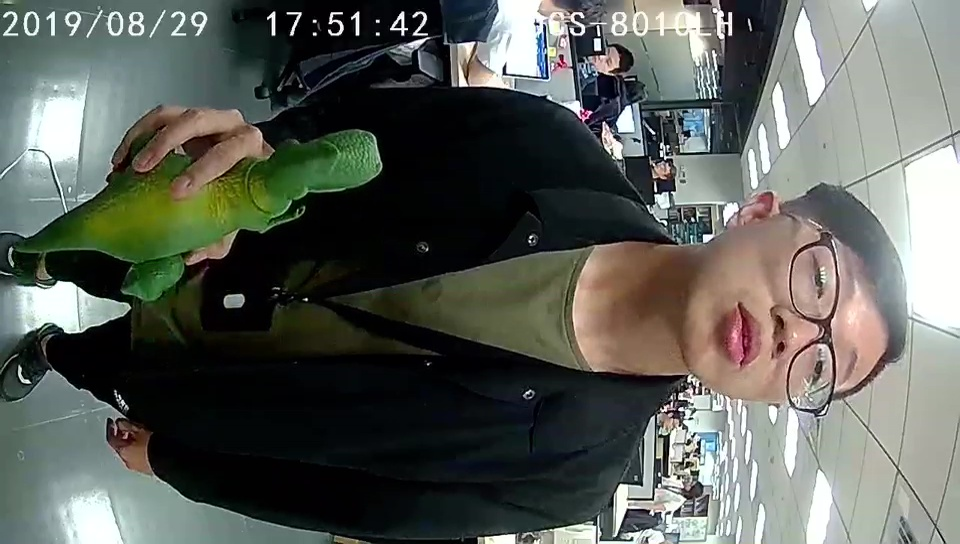rex: (81, 127, 383, 302)
